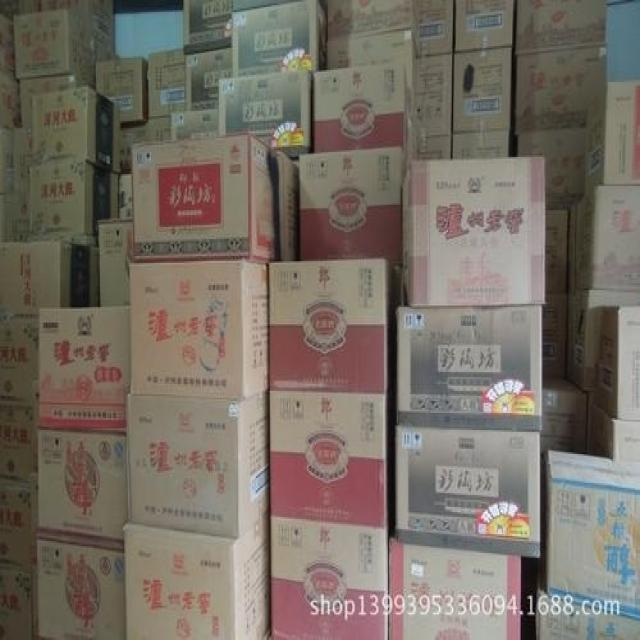box: (125, 387, 270, 538), (404, 155, 547, 305), (397, 423, 541, 560), (133, 133, 279, 266), (131, 259, 270, 398), (123, 510, 270, 640), (398, 305, 544, 427), (270, 389, 387, 529), (545, 449, 640, 621), (269, 259, 385, 396), (269, 517, 387, 640), (388, 538, 520, 640), (298, 148, 404, 266), (36, 427, 128, 555), (38, 307, 132, 430), (219, 70, 315, 162), (37, 539, 124, 640), (311, 61, 403, 155), (517, 43, 608, 135), (29, 85, 120, 174), (326, 29, 419, 114), (29, 159, 120, 244), (566, 288, 640, 391), (230, 0, 328, 75), (577, 183, 640, 290), (536, 577, 640, 640), (586, 80, 640, 186), (326, 0, 420, 60), (0, 244, 72, 321), (452, 43, 513, 133), (594, 307, 640, 420), (517, 126, 586, 201), (12, 10, 79, 79), (517, 0, 607, 51), (585, 389, 640, 466), (0, 478, 38, 579), (0, 126, 31, 244), (95, 56, 148, 123), (183, 44, 233, 114), (541, 377, 586, 454), (413, 51, 454, 135), (0, 321, 38, 408), (453, 0, 515, 53), (18, 75, 79, 126), (120, 116, 173, 174), (1, 404, 38, 486), (100, 218, 134, 307), (147, 48, 186, 119), (0, 568, 38, 640), (278, 150, 300, 265), (184, 0, 233, 51), (419, 0, 454, 60), (544, 292, 568, 379), (544, 208, 567, 294), (451, 128, 512, 159), (170, 106, 219, 143), (0, 75, 19, 128), (1, 17, 17, 79), (416, 133, 449, 157), (403, 113, 416, 171), (120, 171, 134, 222)
